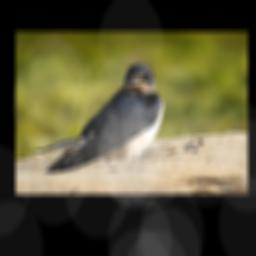Swallow: (29, 63, 165, 172)
